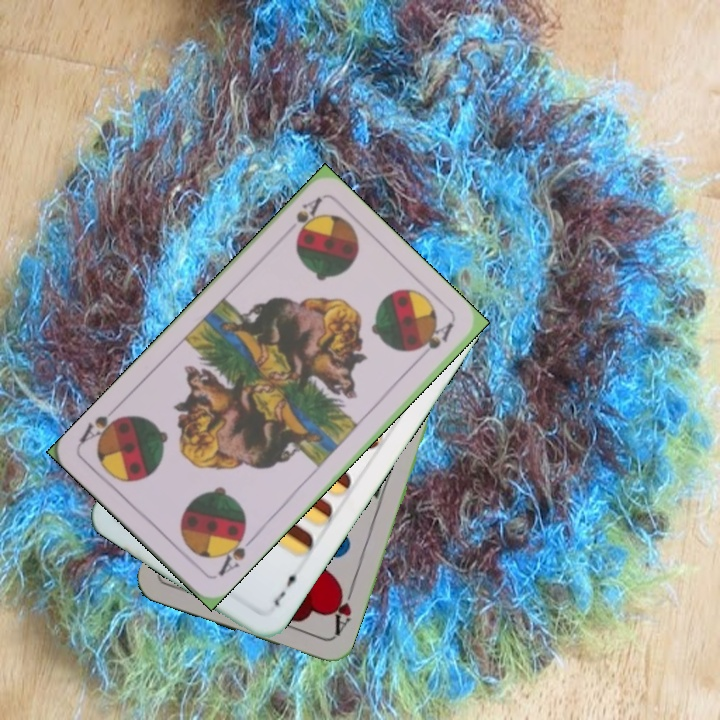E7: (270, 565, 304, 609)
HA: (327, 581, 357, 638)
SA: (213, 526, 257, 579), (290, 193, 324, 243)
